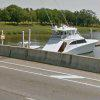Boat: (42, 18, 95, 55)
